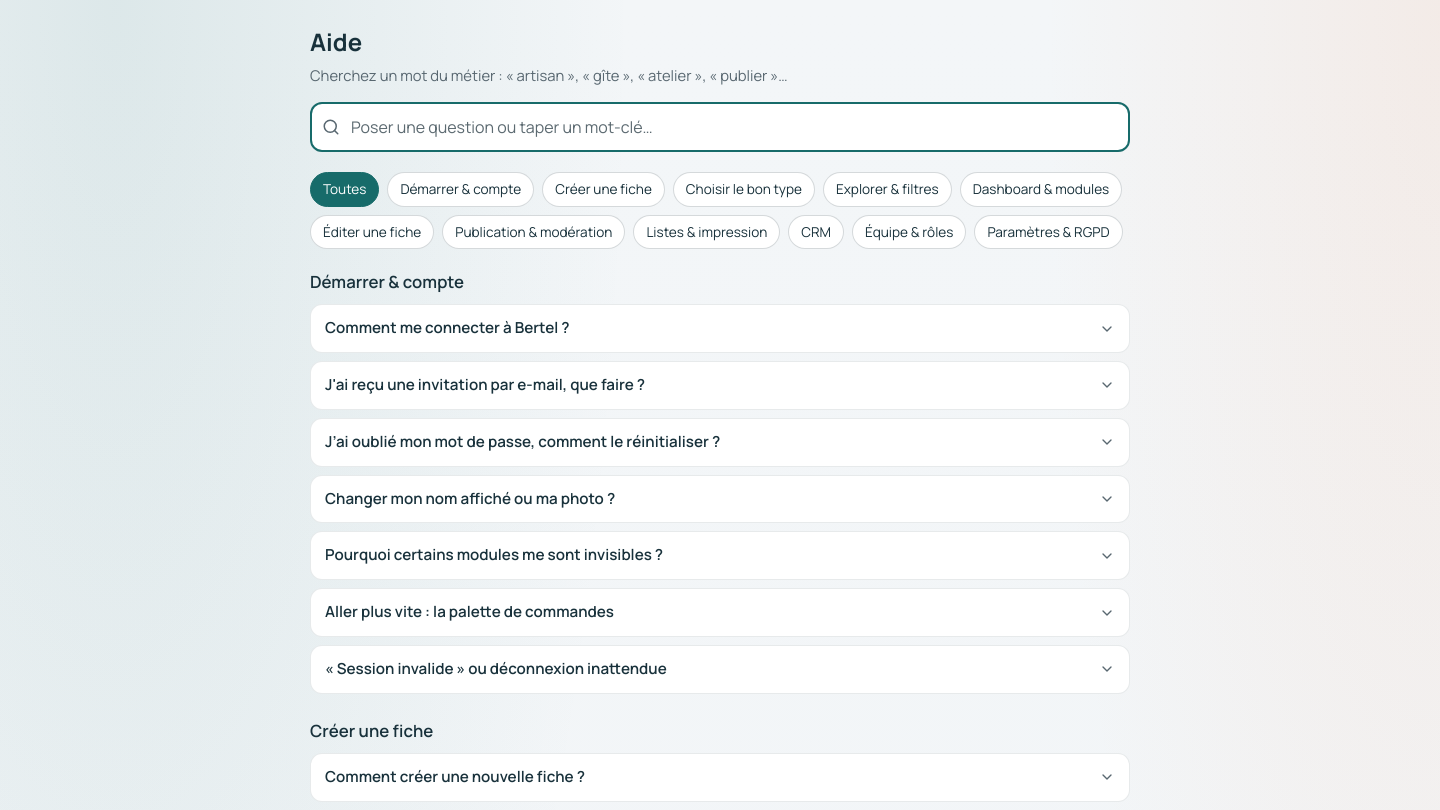
HelpPage › la recherche « artisan » remonte l’arbitrage en premier résultat
The image size is (1440, 810).
Step 1. Type "artisan" into the search field named "Rechercher dans l'aide" → (720, 127), box [310,102,1130,152]
Wait 150 ms
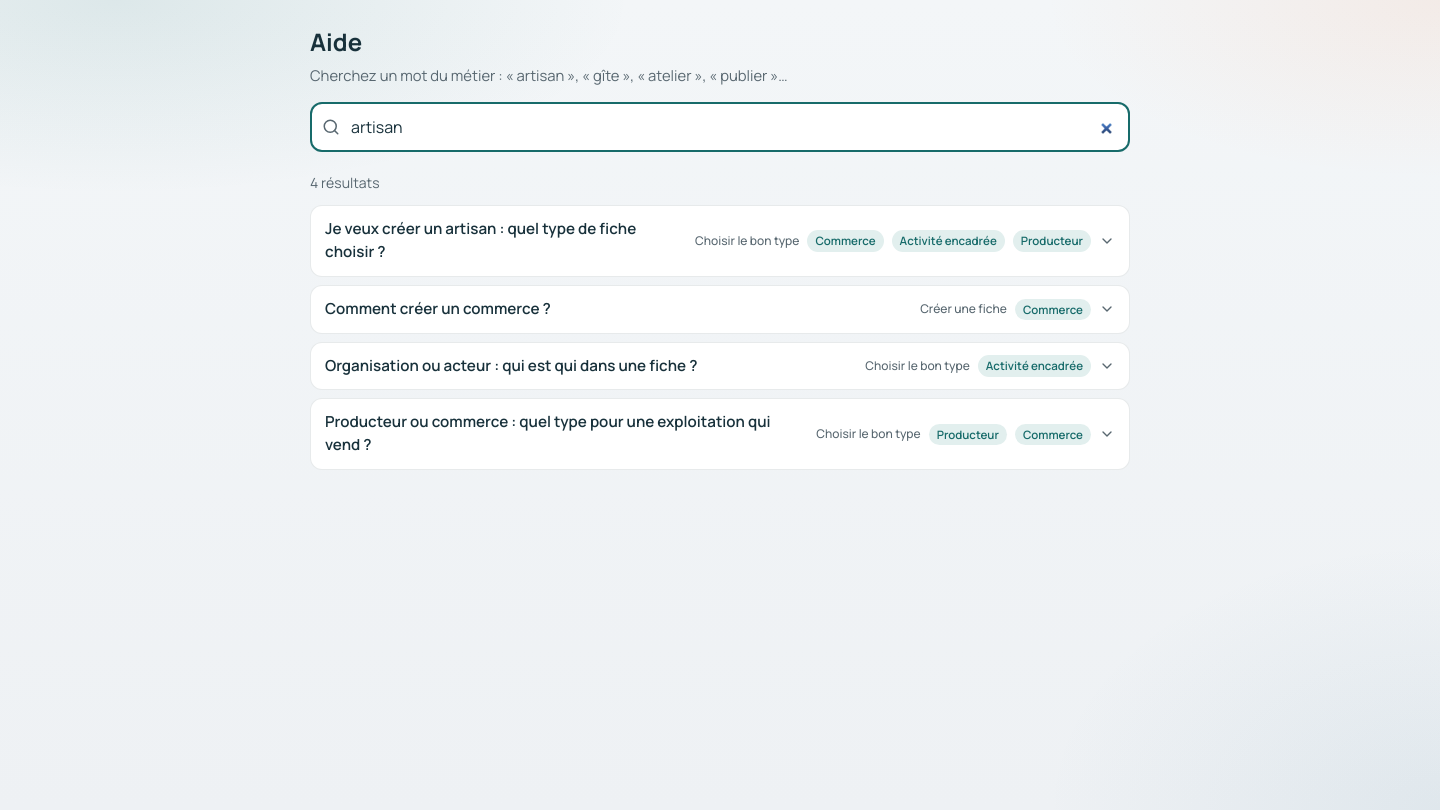
Expected: the message shows "résultat", [318,173,372,192]
